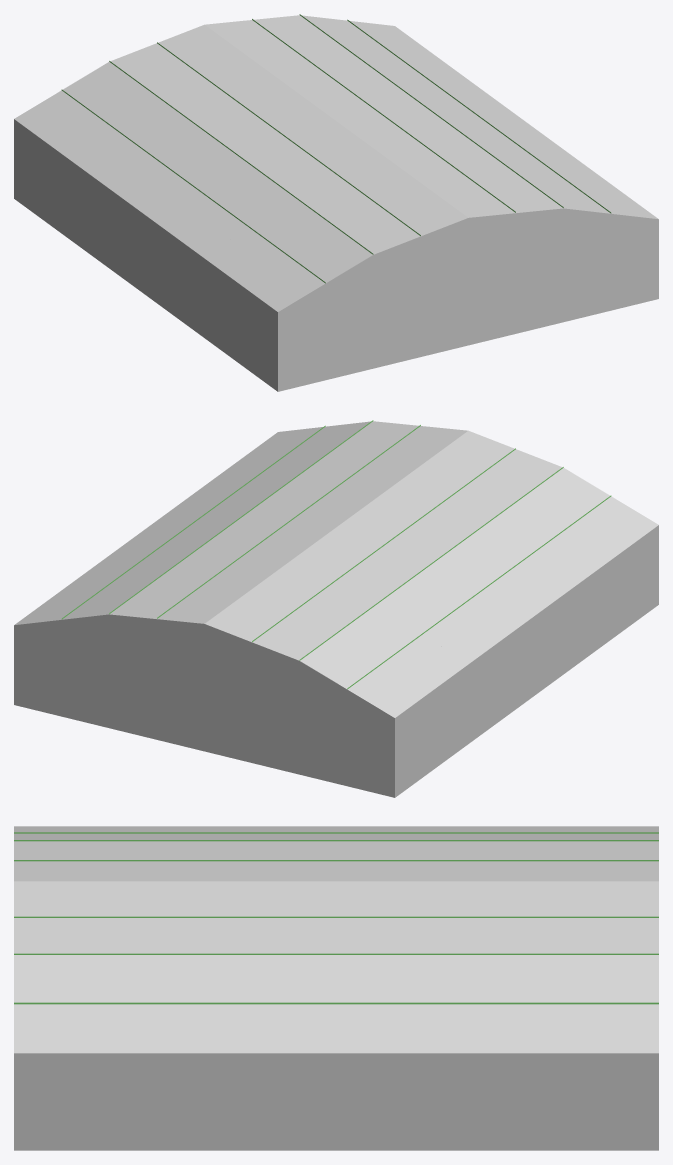
Rendered from Hangar.fbx.
The picture shows the model from 3 angles, top to bottom: view 1: azimuth 30°, elevation 25°; view 2: azimuth 150°, elevation 25°; view 3: azimuth 270°, elevation 25°; orthographic projection. The views are drawn at different scales.
Visible parts, largest first — view 1: Hangar; view 2: Hangar; view 3: Hangar.
Boxes of the visible parts, box(x1,y1,x2,y2) form: Hangar: box(14, 14, 658, 391); Hangar: box(14, 420, 658, 797); Hangar: box(14, 826, 658, 1150).
Bounding box in the file's own units: 25 × 8 × 30.
